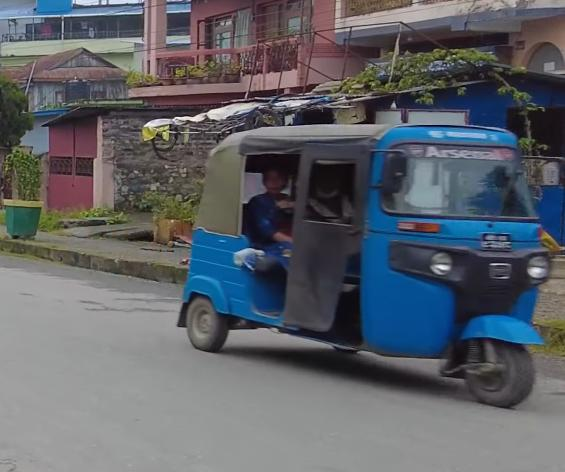auto_rickshaw: (171, 117, 556, 417)
